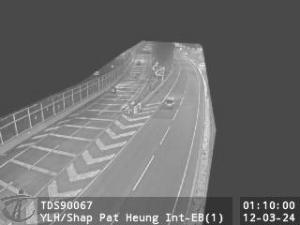motorbike: (112, 88, 116, 96)
vehicle: (163, 97, 176, 109), (136, 60, 142, 66)
